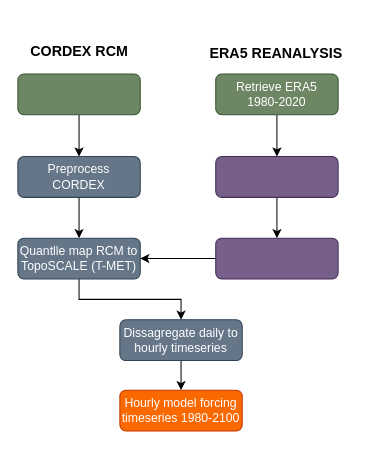
Some shapes in this 368 by 449 pixel diagram are drawn without their labels. The centre of each missing label's shape, as x and y in pixels:
"Generate TopoSUB samples or point" belongs at point 276,176.
"Retrieve CORDEX 1980-2100" belongs at point 78,94.
"TopoSCALE downscaling to 30m" belongs at point 276,258.
